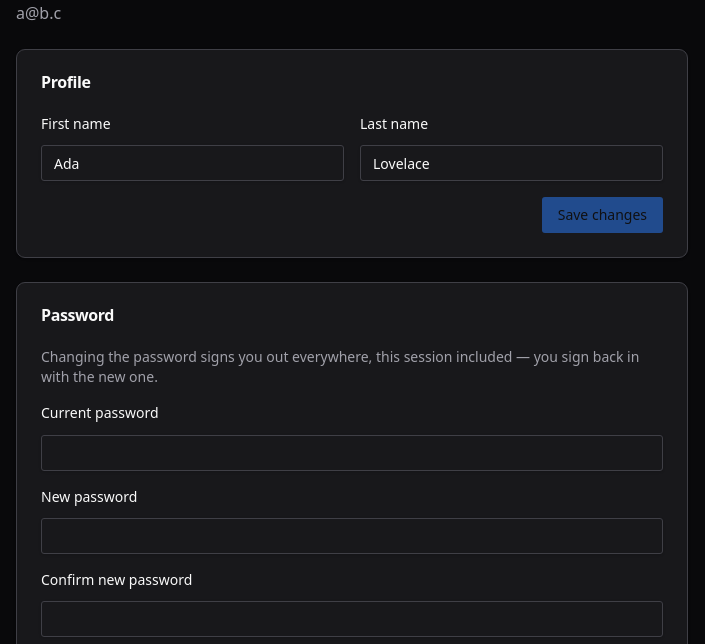
AccountPage › maps a wrong current password onto the field instead of a global failure
The image size is (705, 644).
Type "not-the-password" into the password field labelled "Current password" at (352, 452), box x1=41 y1=434 x2=663 y2=470
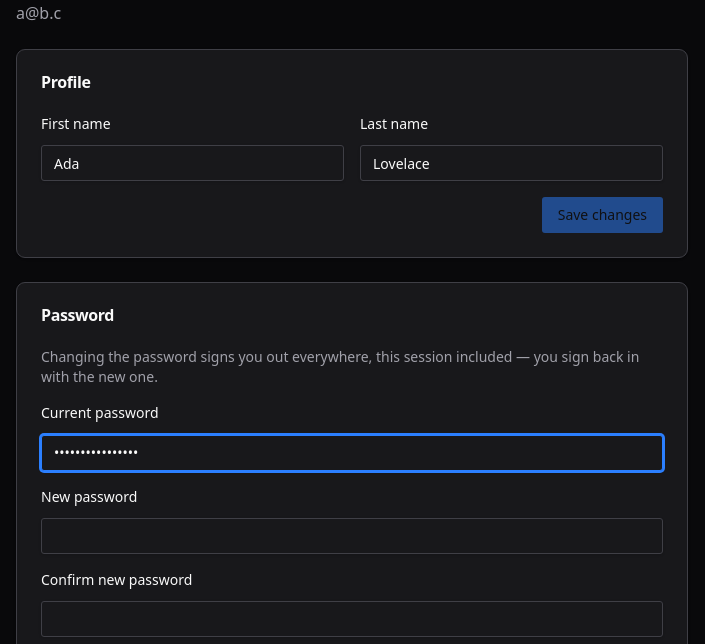
Type "brand-new-pass-456" into the password field labelled "New password" at (352, 536), box x1=41 y1=518 x2=663 y2=554
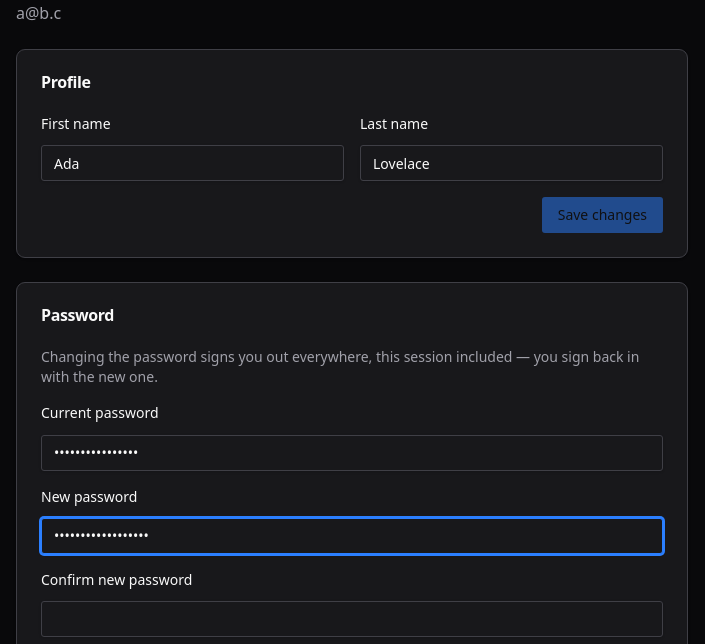
Type "brand-new-pass-456" into the password field labelled "Confirm new password" at (352, 619), box x1=41 y1=601 x2=663 y2=637
(page scrolled)
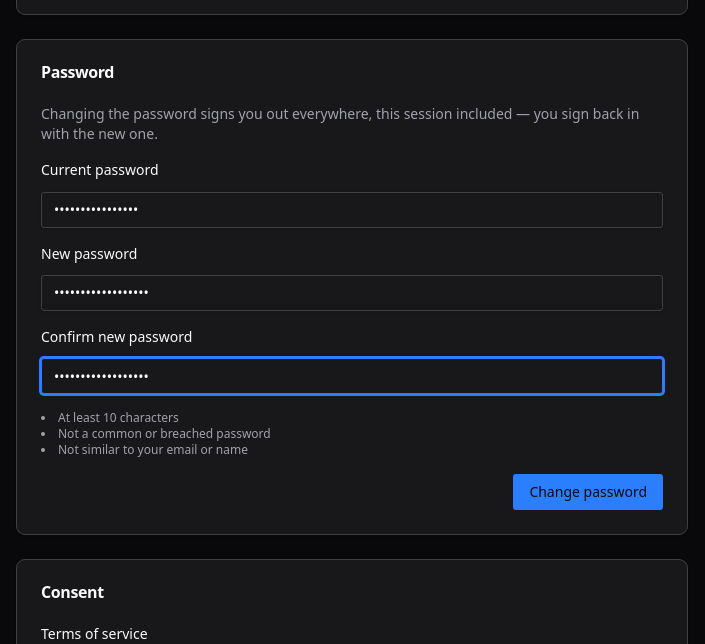
Click the button "Change password" at (588, 492), box x1=513 y1=474 x2=663 y2=510
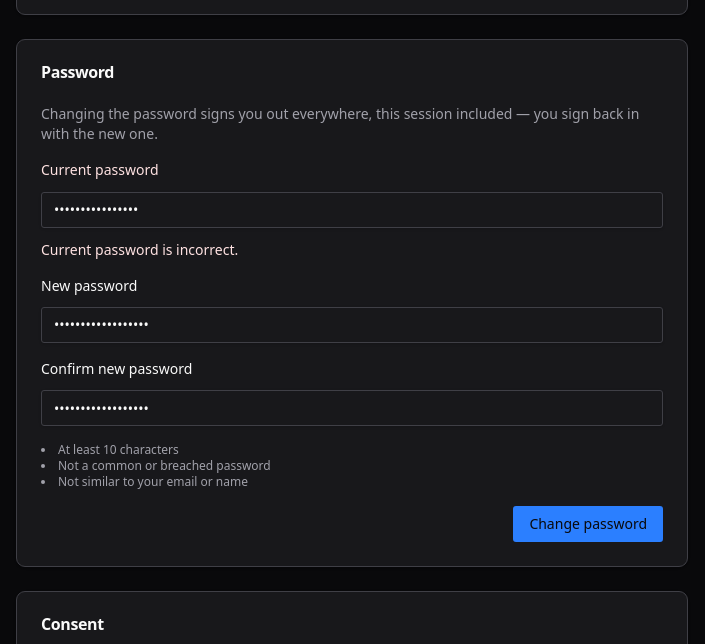
Expected: the text "Current password is incorrect." is shown, x1=41 y1=240 x2=238 y2=258
